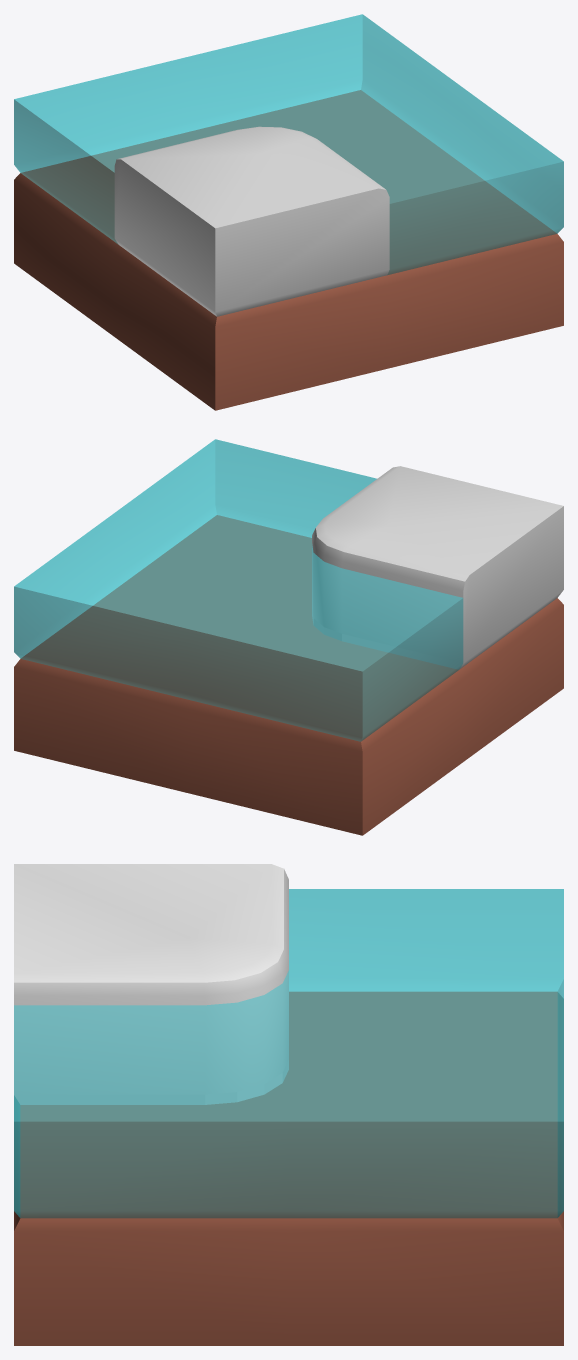
Rendered from square_snow_waterOuterCorner.fbx.
3 renders of one model, top to bottom at view 1: azimuth 30°, elevation 25°; view 2: azimuth 150°, elevation 25°; view 3: azimuth 270°, elevation 25°, orthographic. The views are drawn at different scales.
Visible parts, largest first — view 1: square_snow_waterOuterCorner; view 2: square_snow_waterOuterCorner; view 3: square_snow_waterOuterCorner.
Boxes of the visible parts, x1,y1,x2,y2 form: square_snow_waterOuterCorner: [14, 14, 563, 410]; square_snow_waterOuterCorner: [14, 439, 563, 835]; square_snow_waterOuterCorner: [14, 864, 563, 1345].
Size of the model in its own units: 2 by 1 by 2.
